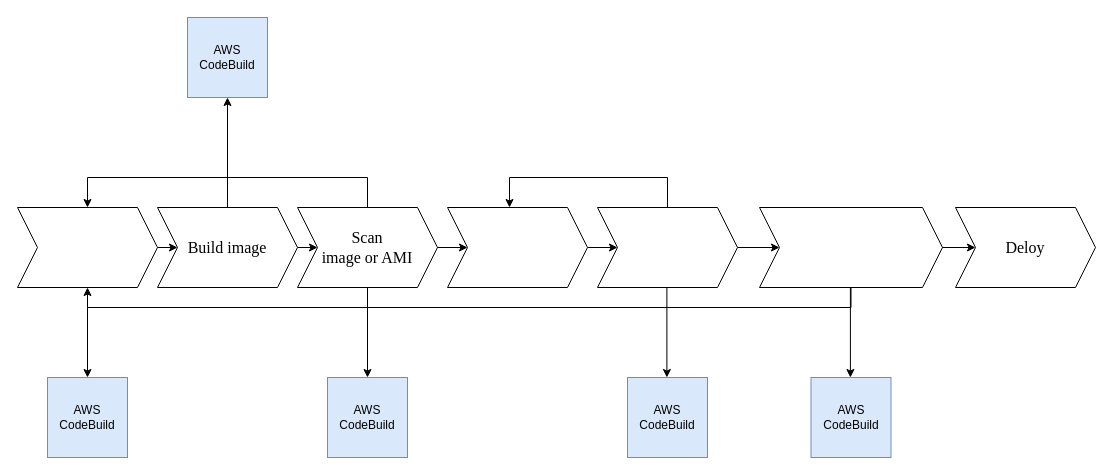
Some shapes in this 1113 by 475 pixel diagram are drawn without their labels. The centre of each missing label's shape, as x and y in pixels:
Application or code change: the point at 87,247
Post-deployment compliance scanning: the point at 850,247
Running scan infrastrucutres: the point at 667,247
Update cloud infrastrucutre: the point at 517,247
